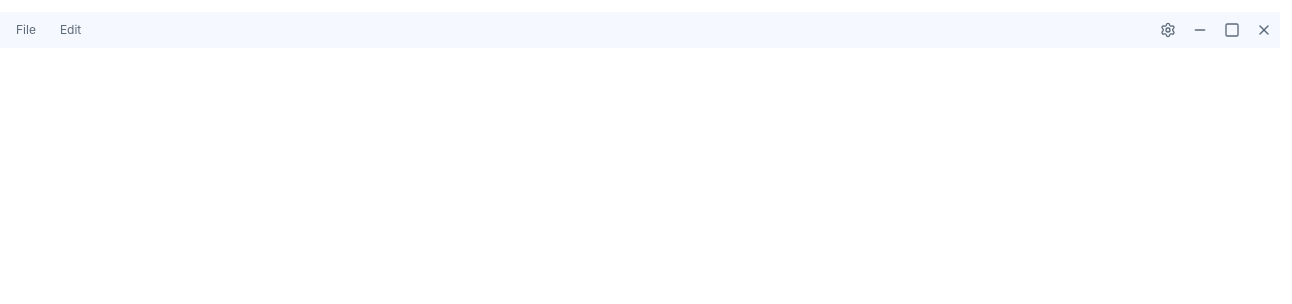
Test: AppHeader › exposes menu open state to assistive technology
Click the button "File".
click(26, 30)  # box [4,14,48,46]
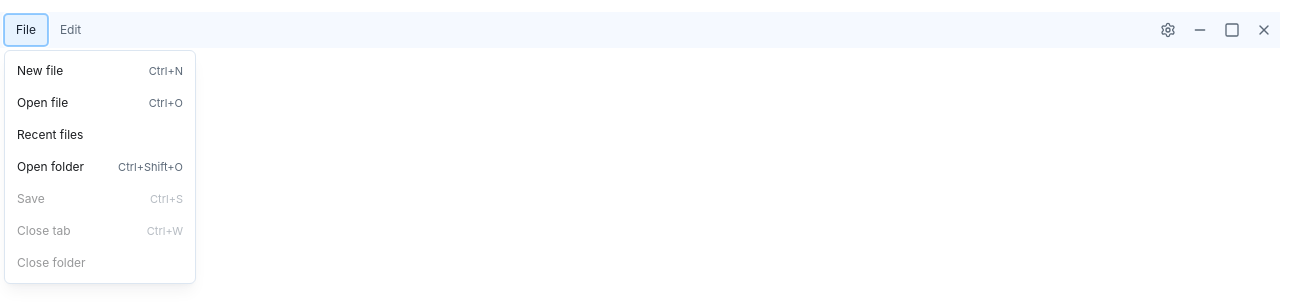
Check: the button "File" is expanded, box [4,14,48,46]
